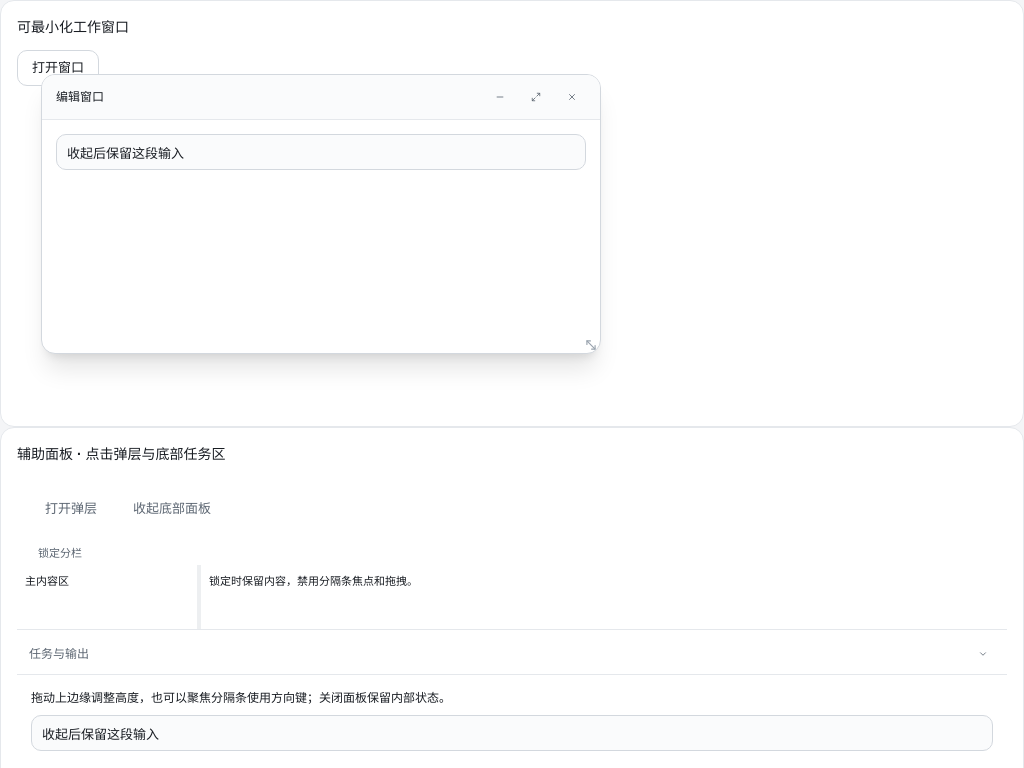
Test: 点击弹层使用 Portal，外部关闭后可以再次打开
The image size is (1024, 768).
Click the button "打开弹层" at (71, 509), box x1=31 y1=491 x2=111 y2=527
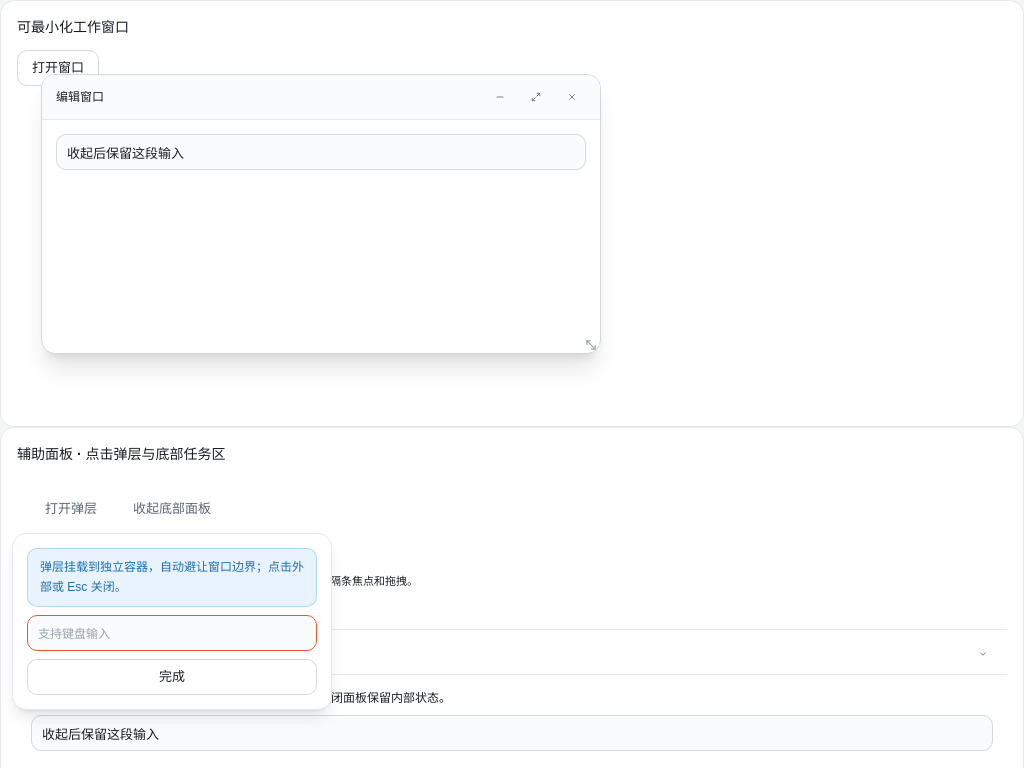
expect the dialog named "可交互弹层" is shown: met, box x1=12 y1=533 x2=332 y2=710
